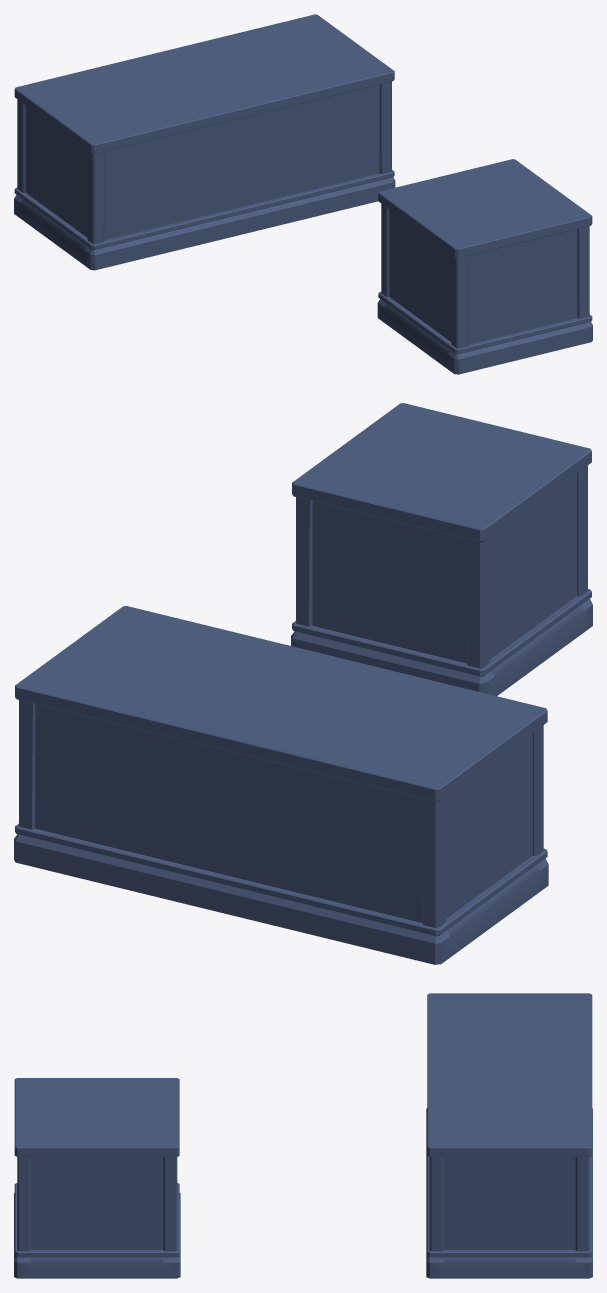
The model's file is TempA_DisplayStands_02_Low.fbx.
3 views of the same model, one above another, from view 1: azimuth 30°, elevation 25°; view 2: azimuth 150°, elevation 25°; view 3: azimuth 270°, elevation 25° (orthographic). The views are drawn at different scales.
Visible parts, largest first — view 1: TempA_LargeDisplayStand_02_Low, TempA_SmallDisplayStand_02_Low; view 2: TempA_LargeDisplayStand_02_Low, TempA_SmallDisplayStand_02_Low; view 3: TempA_LargeDisplayStand_02_Low, TempA_SmallDisplayStand_02_Low.
Part boxes in pixels (bbox=[...]): TempA_LargeDisplayStand_02_Low: bbox=[14, 14, 395, 270]; TempA_SmallDisplayStand_02_Low: bbox=[377, 159, 592, 374]; TempA_LargeDisplayStand_02_Low: bbox=[14, 606, 548, 964]; TempA_SmallDisplayStand_02_Low: bbox=[291, 403, 592, 695]; TempA_LargeDisplayStand_02_Low: bbox=[426, 993, 592, 1278]; TempA_SmallDisplayStand_02_Low: bbox=[14, 1078, 180, 1278].
Size of the model in its own units: 2.67 by 1.05 by 4.21.
